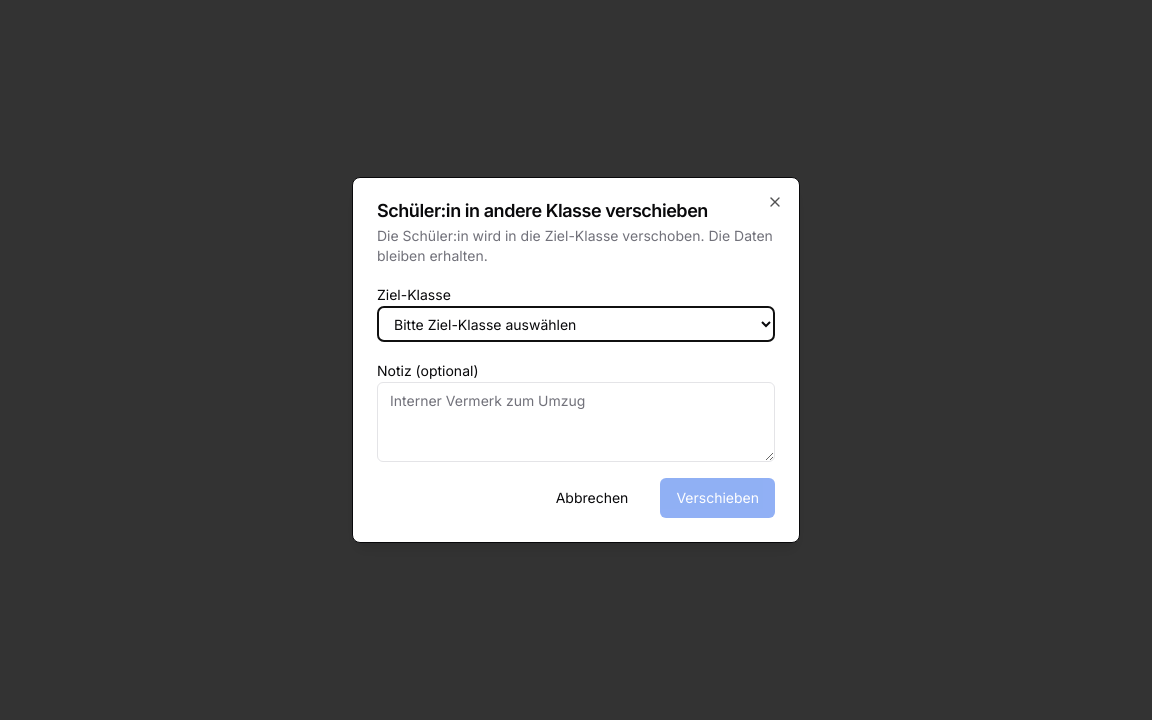
it: MoveStudentDialog › enables Verschieben once a target class is picked
The image size is (1152, 720).
Select "1B" in the dropdown labelled "Ziel-Klasse" at (576, 324), box [377,306,775,342]
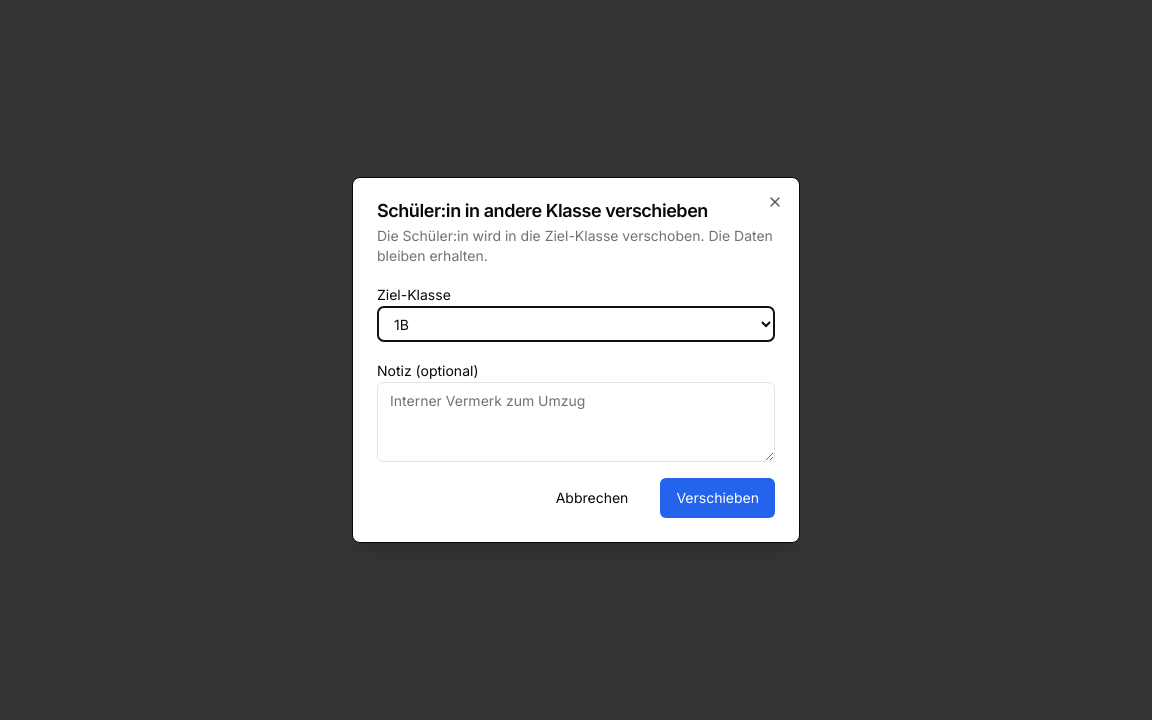
expect the button "Verschieben" is enabled: met, box [660,478,775,518]
